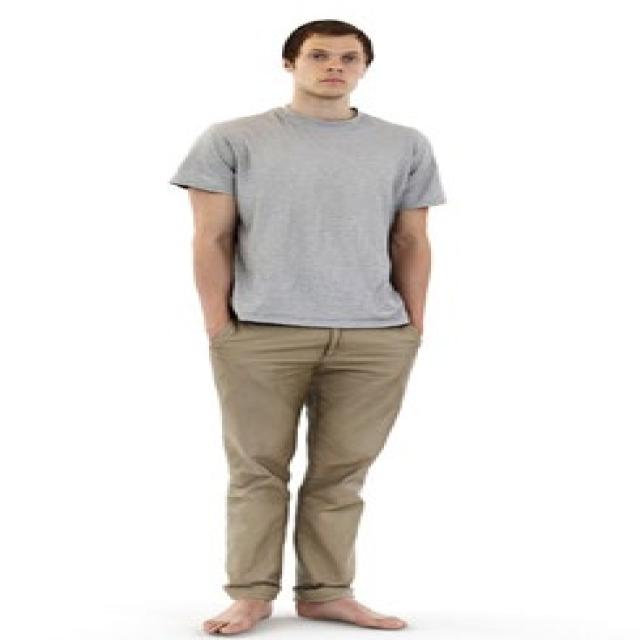standing: (161, 17, 452, 640)
